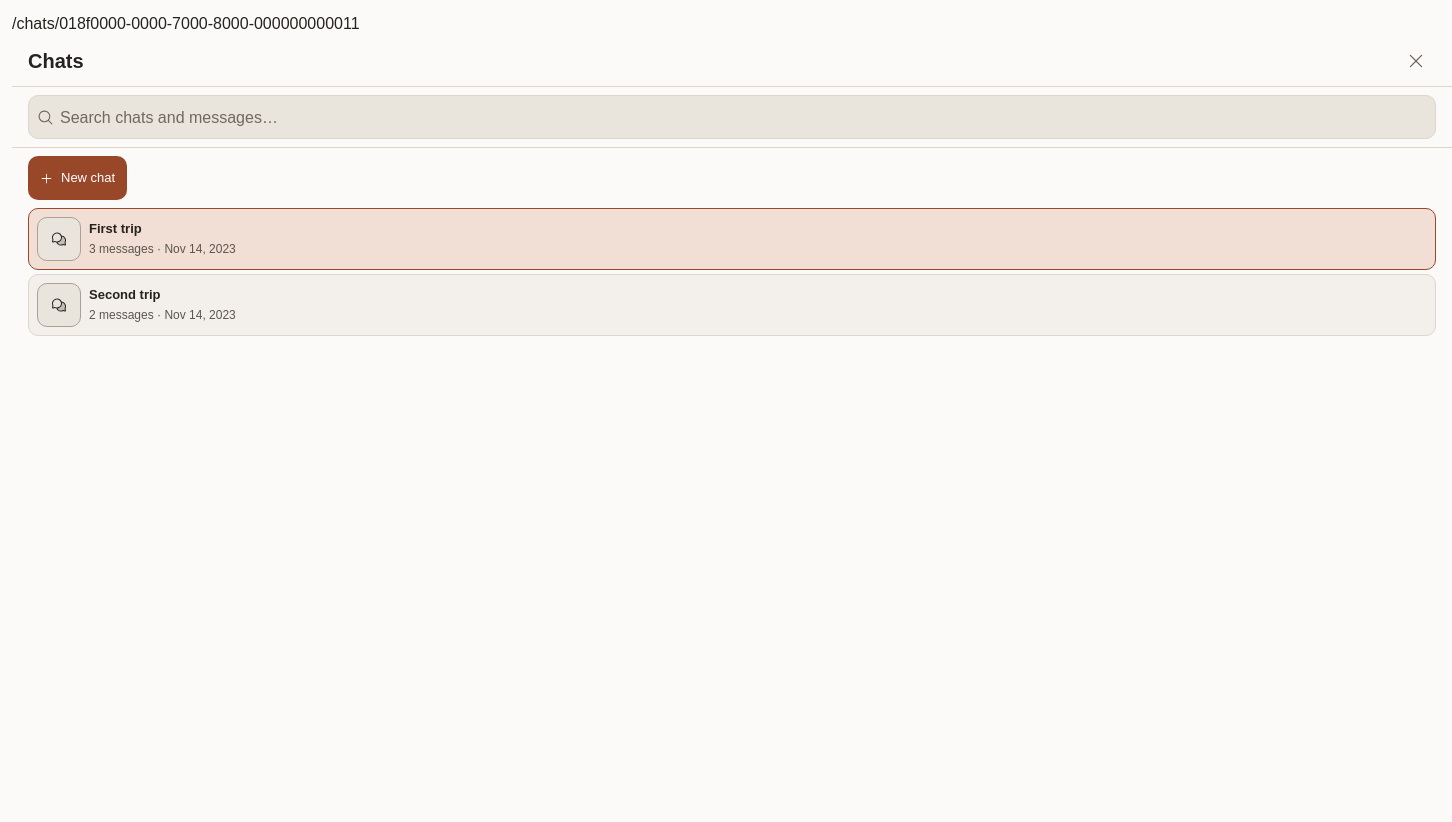
ChatManagementPanel › opens the chat context menu after a stationary touch hold
This screenshot has width=1452, height=822.
Expected: the text "First trip" is shown, [89, 221, 142, 236]
Press the mouse on the text "First trip" at (732, 239), box [28, 208, 1436, 270]
Wait 700 ms
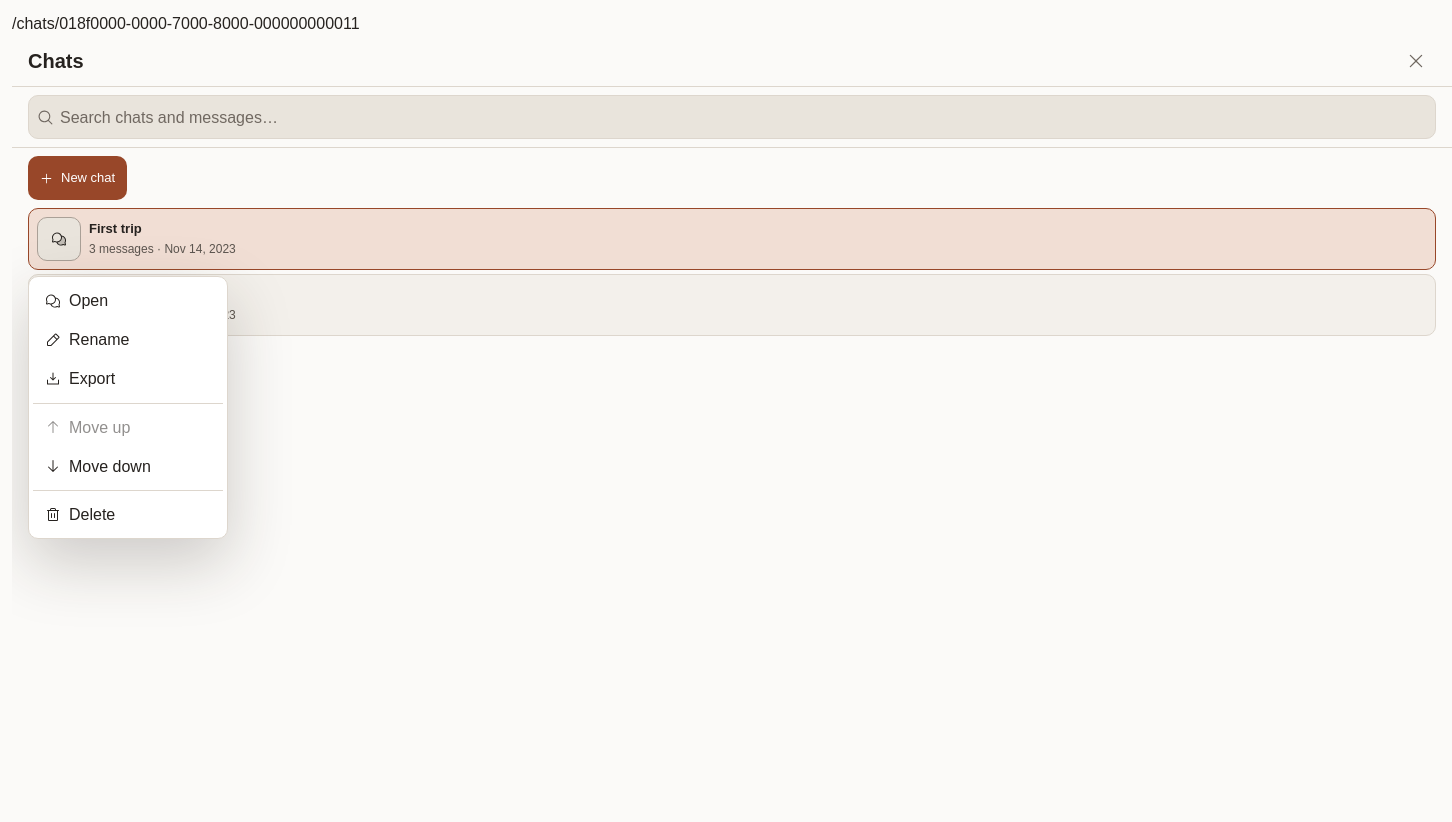
Expected: the menu item "Rename" is shown, [45, 331, 130, 348]
